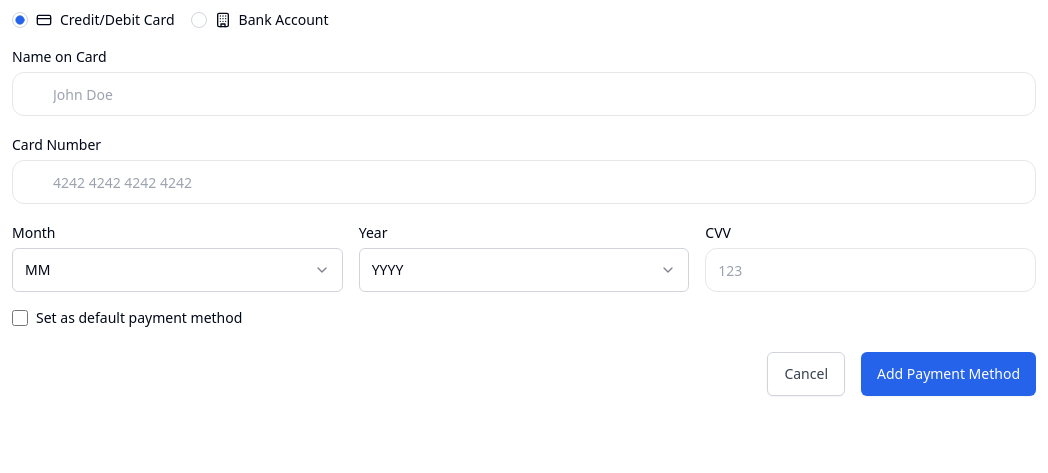
Test: PaymentMethodForm Component › Rendering › renders bank form fields when bank type is selected
Note: Click on bank account option
Click the radio button named "Bank Account" next to "Bank Account" at (199, 20), box [191,12,207,28]
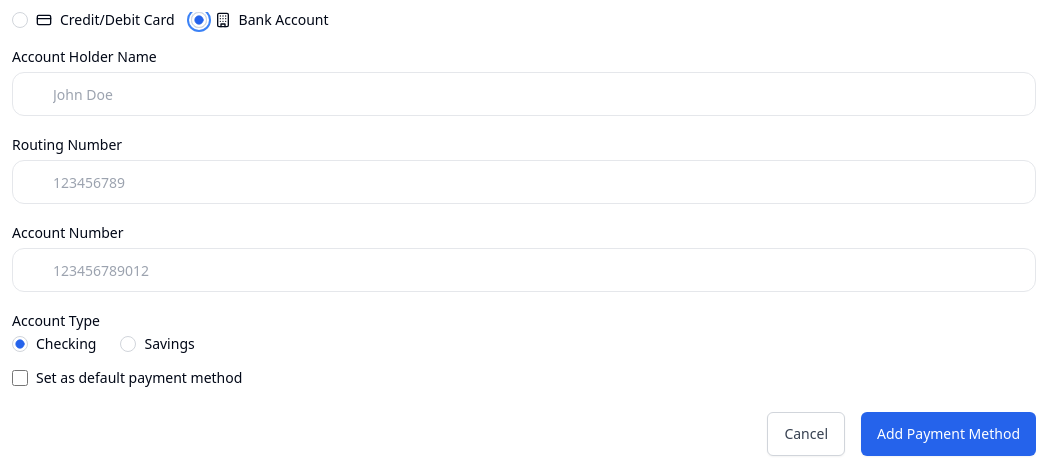
Expected: the field labelled "Routing Number" is shown, [12,160,1036,204]
Expected: the field labelled "Account Number" is shown, [12,248,1036,292]
Expected: the radio button named "Checking" next to "Checking" is shown, [12,336,28,352]
